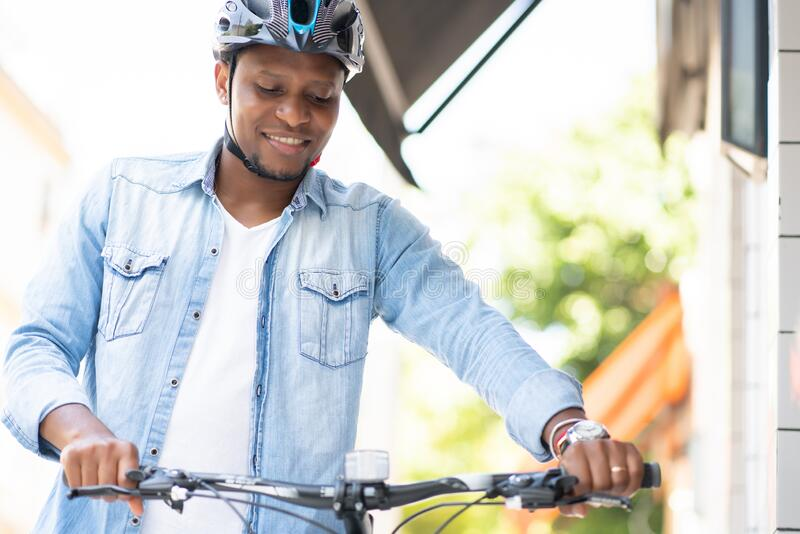helmet: (213, 1, 365, 180)
